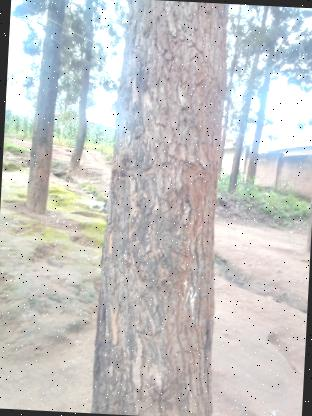tree: (81, 0, 243, 416), (14, 0, 73, 224)
